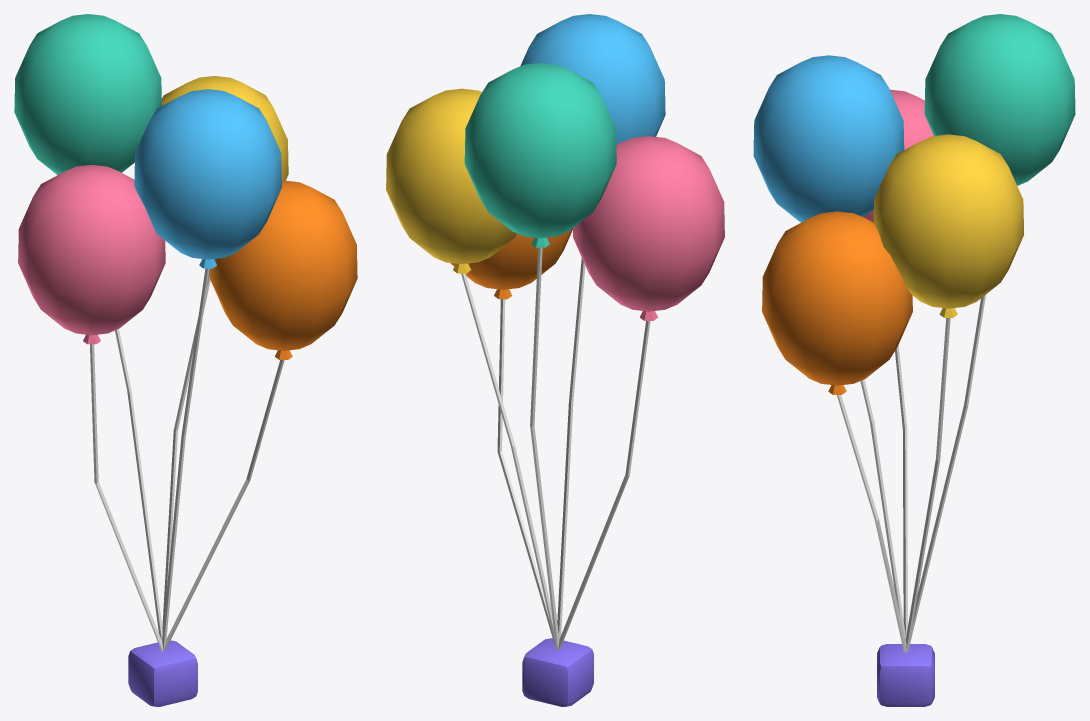
File: balloon_cluster.glb
3 views of the same model, side by side, from view 1: azimuth 30°, elevation 25°; view 2: azimuth 150°, elevation 25°; view 3: azimuth 270°, elevation 25° (orthographic). The views are drawn at different scales.
Parts seen in each view (by area): view 1: balloon_cluster; view 2: balloon_cluster; view 3: balloon_cluster.
Boxes of the visible parts, box(x1,y1,x2,y2) form: balloon_cluster: box(14, 14, 357, 706); balloon_cluster: box(386, 14, 724, 706); balloon_cluster: box(753, 14, 1075, 706).
Size of the model in its own units: 2.03 by 4.26 by 1.88.
